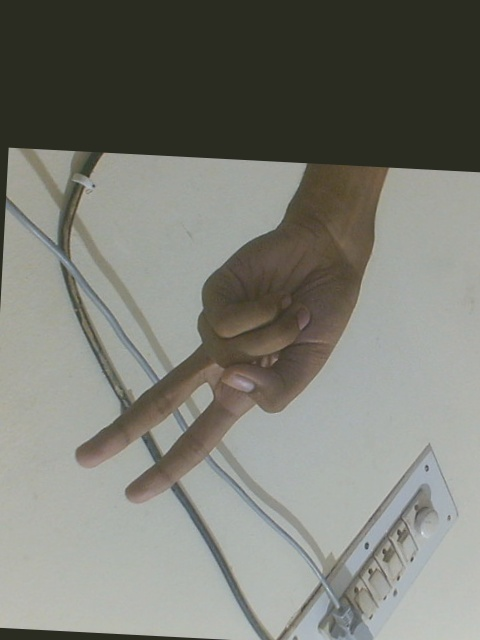hand: (65, 201, 379, 505)
